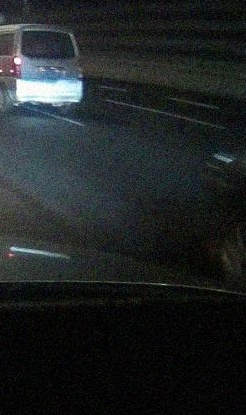L_light: (12, 56, 21, 78)
R_light: (76, 59, 82, 75)
T_light: (42, 31, 55, 35)
night-left: (11, 25, 83, 115)
